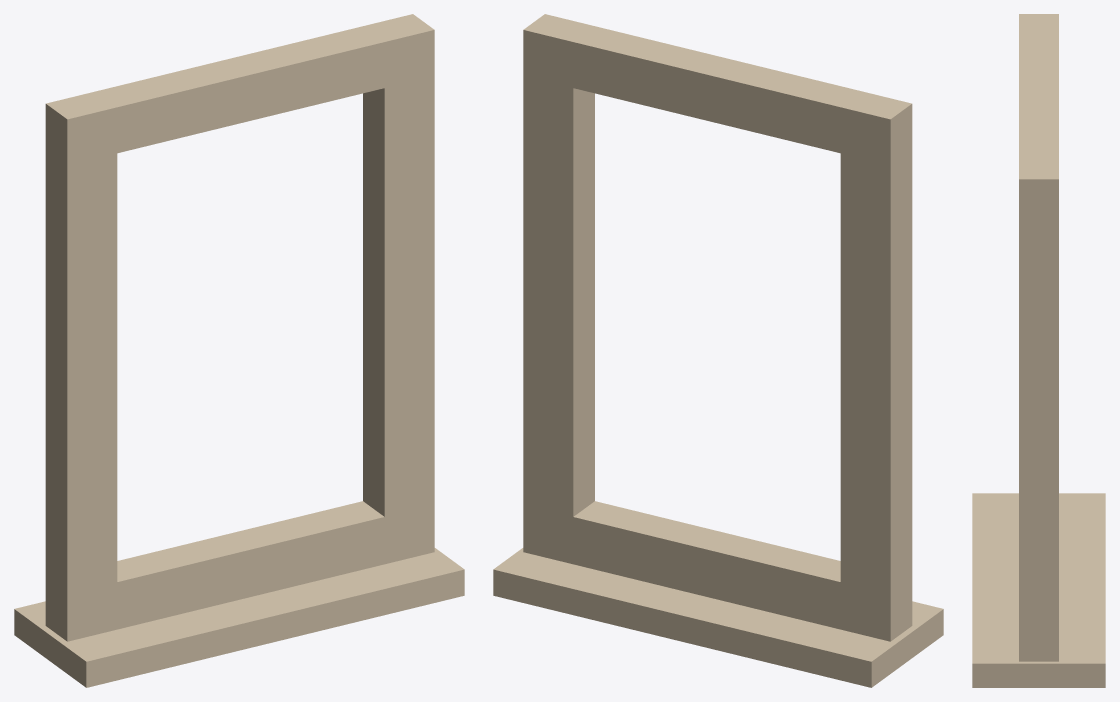
Rendered from Window_3E.fbx.
3 views of the same model, side by side, from view 1: azimuth 30°, elevation 25°; view 2: azimuth 150°, elevation 25°; view 3: azimuth 270°, elevation 25° (orthographic). The views are drawn at different scales.
Parts seen in each view (by area): view 1: polySurface1630; view 2: polySurface1630; view 3: polySurface1630.
Boxes of the visible parts, left/top/right/bottom form: polySurface1630: left=14, top=14, right=464, bottom=687; polySurface1630: left=493, top=14, right=943, bottom=687; polySurface1630: left=972, top=14, right=1105, bottom=687.
Size of the model in its own units: 1.51 by 2.09 by 0.5.
Materials: 1 (1 with a texture image).
